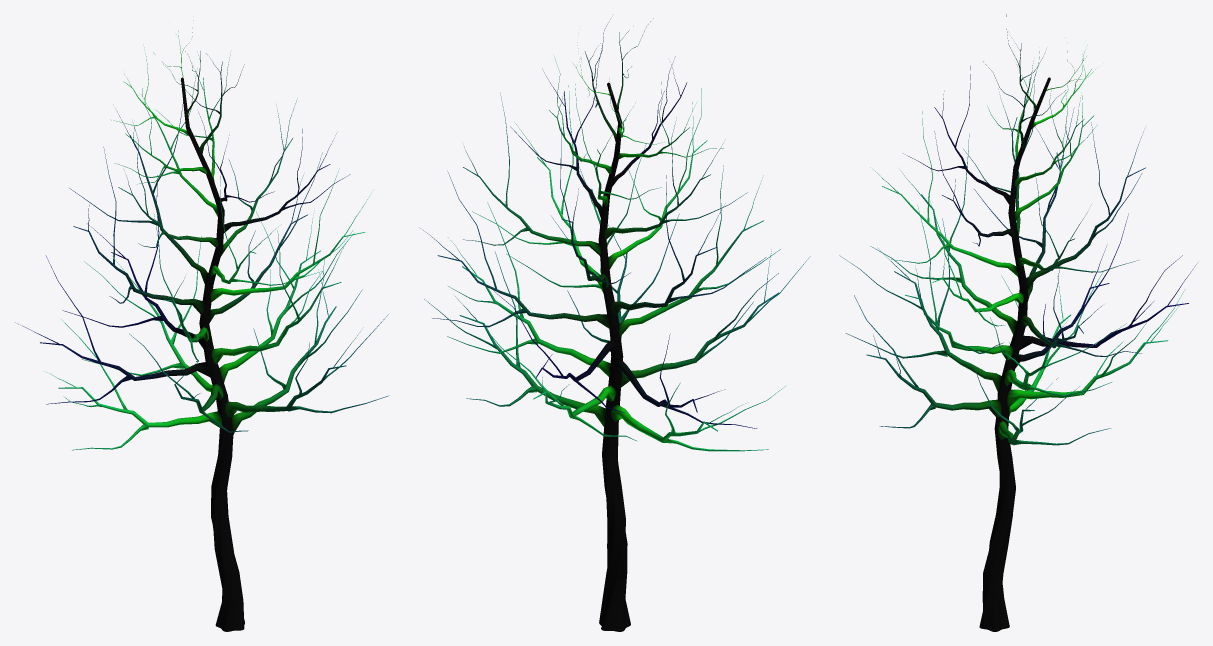
The model's file is SM_WLTree_014.FBX.
3 renders of one model, left to right at view 1: azimuth 30°, elevation 25°; view 2: azimuth 150°, elevation 25°; view 3: azimuth 270°, elevation 25°, orthographic. The views are drawn at different scales.
Visible parts, largest first — view 1: SM_WLTree_014_LOD0; view 2: SM_WLTree_014_LOD0; view 3: SM_WLTree_014_LOD0.
Boxes of the visible parts, left/top/right/bottom form: SM_WLTree_014_LOD0: left=15, top=20, right=389, bottom=631; SM_WLTree_014_LOD0: left=420, top=14, right=810, bottom=631; SM_WLTree_014_LOD0: left=839, top=14, right=1197, bottom=631.
Size of what is drawn, in the model's own units: 479 by 493 by 895.
